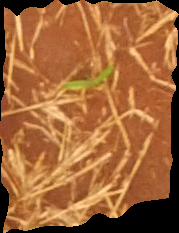soil: (1, 2, 176, 231)
